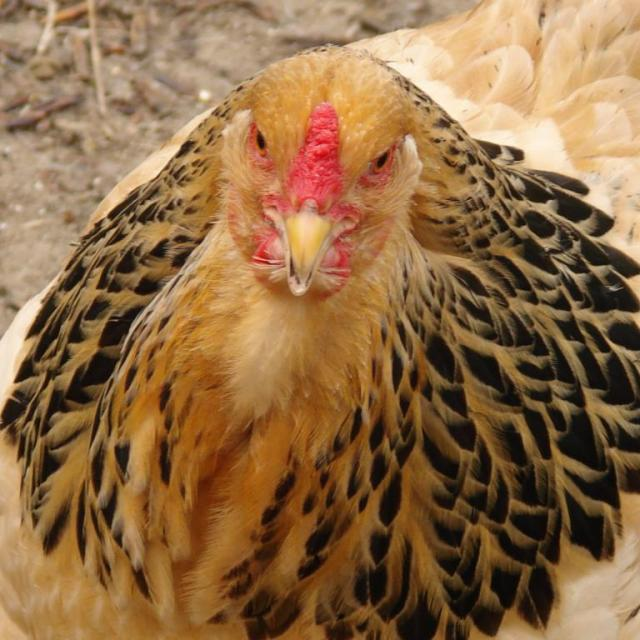Chicken: (0, 64, 626, 640)
